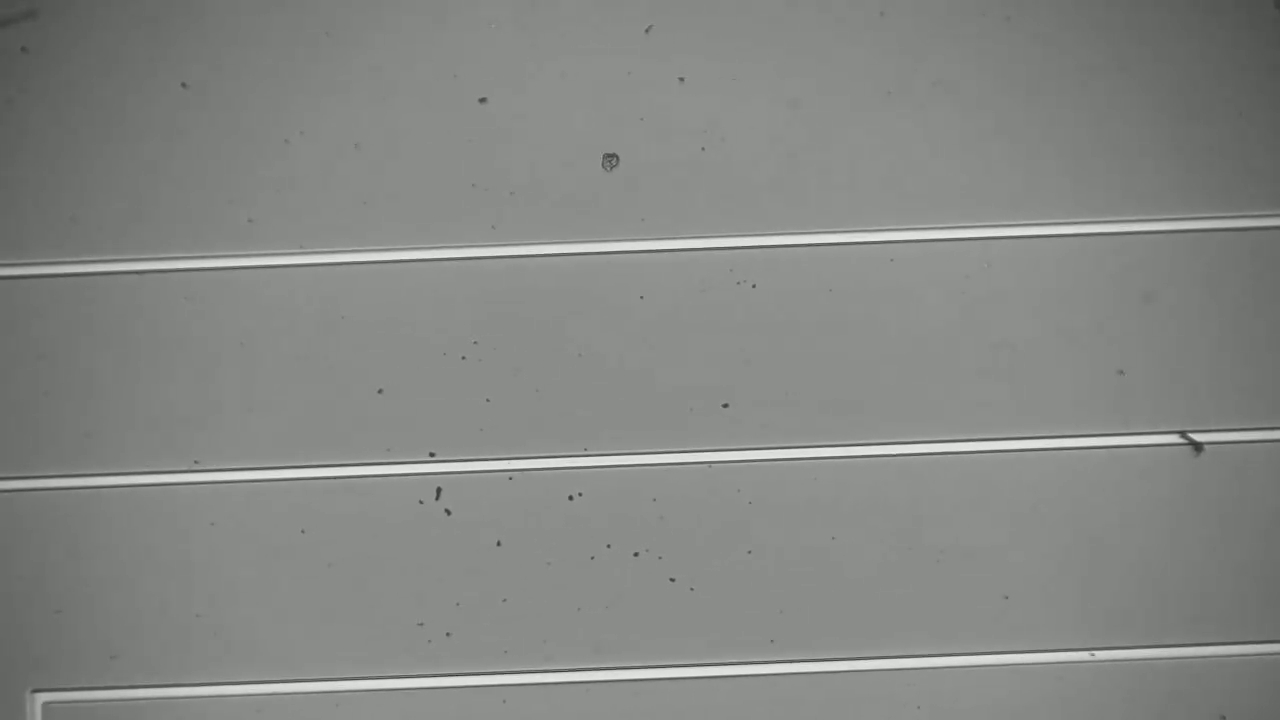stains_enbedded: (1166, 421, 1223, 467)
